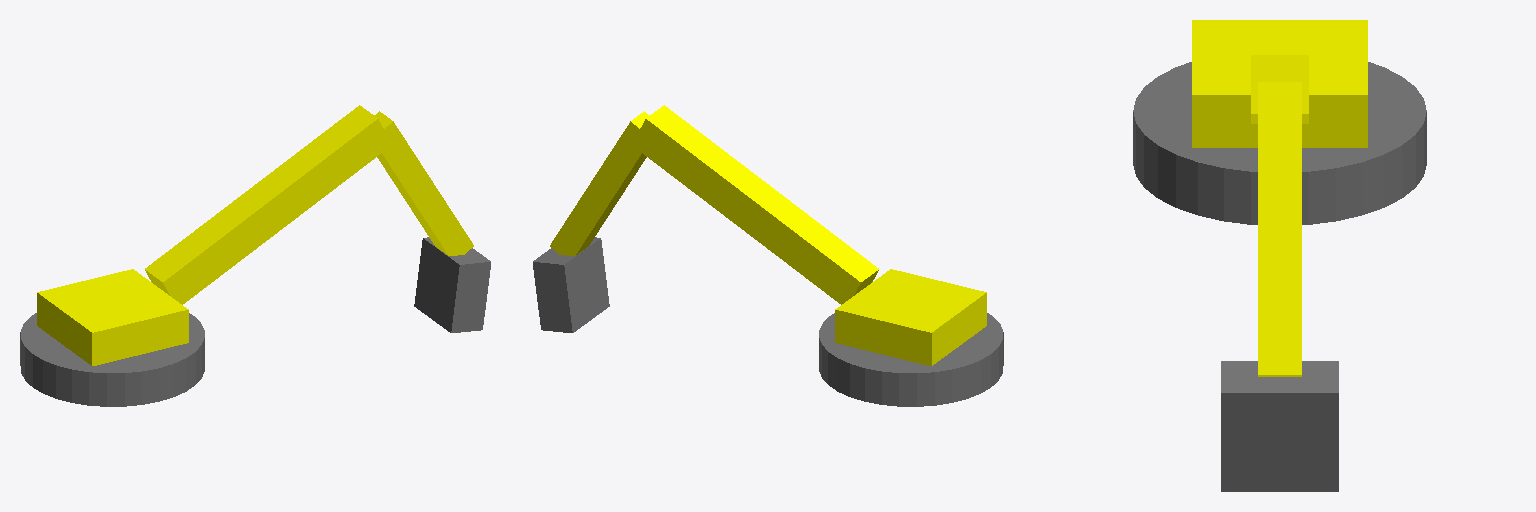
robot.urdf — excavator:
<?xml version="1.0"?>
<robot name="excavator">

  <!-- Materials -->
  <material name="grey">
    <color rgba="0.5 0.5 0.5 1"/>
  </material>
  <material name="yellow">
    <color rgba="1 1 0 1"/>
  </material>

  <!-- ===================================================================== -->
  <!--                                LINKS                                  -->
  <!-- ===================================================================== -->

  <!-- Base Link -->
  <link name="base_link">
    <visual>
      <geometry>
        <cylinder length="0.2" radius="0.5"/>
      </geometry>
      <material name="grey"/>
    </visual>
    <collision>
      <geometry>
        <cylinder length="0.2" radius="0.5"/>
      </geometry>
    </collision>
    <inertial>
      <mass value="10"/>
      <inertia ixx="0.1" ixy="0" ixz="0" iyy="0.1" iyz="0" izz="0.1"/>
    </inertial>
  </link>

  <!-- Turret Link -->
  <link name="turret_link">
    <visual>
      <geometry>
        <box size="0.6 0.6 0.4"/>
      </geometry>
      <material name="yellow"/>
    </visual>
    <collision>
      <geometry>
        <box size="0.6 0.6 0.4"/>
      </geometry>
    </collision>
    <inertial>
      <mass value="5"/>
      <inertia ixx="0.1" ixy="0" ixz="0" iyy="0.1" iyz="0" izz="0.1"/>
    </inertial>
  </link>

  <!-- Boom Link (Length = 1.5) -->
  <link name="boom_link">
    <visual>
      <!-- The origin is half the length of the boom -->
      <origin xyz="0.75 0 0" rpy="0 0 0"/>
      <geometry>
        <!-- The size of the boom box -->
        <box size="1.5 0.2 0.2"/>
      </geometry>
      <material name="yellow"/>
    </visual>
    <collision>
      <origin xyz="0.75 0 0" rpy="0 0 0"/>
      <geometry>
        <box size="1.5 0.2 0.2"/>
      </geometry>
    </collision>
    <inertial>
      <mass value="3"/>
      <origin xyz="0.75 0 0" rpy="0 0 0"/>
      <inertia ixx="0.01" ixy="0" ixz="0" iyy="0.1" iyz="0" izz="0.1"/>
    </inertial>
  </link>

  <!-- Stick Link (Length = 1.0) -->
  <link name="stick_link">
    <visual>
      <!-- The origin is half the length of the stick -->
      <origin xyz="0.5 0 0" rpy="0 0 0"/>
      <geometry>
        <!-- The size of the stick box -->
        <box size="1.0 0.15 0.15"/>
      </geometry>
      <material name="yellow"/>
    </visual>
    <collision>
      <origin xyz="0.5 0 0" rpy="0 0 0"/>
      <geometry>
        <box size="1.0 0.15 0.15"/>
      </geometry>
    </collision>
    <inertial>
      <mass value="2"/>
      <origin xyz="0.5 0 0" rpy="0 0 0"/>
      <inertia ixx="0.01" ixy="0" ixz="0" iyy="0.1" iyz="0" izz="0.1"/>
    </inertial>
  </link>

  <!-- Bucket Link -->
  <link name="bucket_link">
    <visual>
      <origin xyz="0.2 0 0" rpy="0 0 0"/>
      <geometry>
        <box size="0.4 0.4 0.2"/>
      </geometry>
      <material name="grey"/>
    </visual>
    <collision>
      <origin xyz="0.2 0 0" rpy="0 0 0"/>
      <geometry>
        <box size="0.4 0.4 0.2"/>
      </geometry>
    </collision>
    <inertial>
      <mass value="1"/>
      <origin xyz="0.2 0 0" rpy="0 0 0"/>
      <inertia ixx="0.01" ixy="0" ixz="0" iyy="0.01" iyz="0" izz="0.01"/>
    </inertial>
  </link>

  <!-- ===================================================================== -->
  <!--                                JOINTS                                 -->
  <!-- ===================================================================== -->

  <joint name="turret_joint" type="revolute">
    <parent link="base_link"/>
    <child link="turret_link"/>
    <origin xyz="0 0 0.1" rpy="0 0 0"/>
    <axis xyz="0 0 1"/>
    <limit lower="-3.15" upper="3.15" effort="1000" velocity="0.5"/>
  </joint>

  <joint name="boom_joint" type="revolute">
    <parent link="turret_link"/>
    <child link="boom_link"/>
    <origin xyz="0.3 0 0.2" rpy="0 -0.46 0"/>
    <axis xyz="0 -1 0"/>
    <limit lower="-0.587" upper="0.587" effort="1000" velocity="0.5"/>
  </joint>

  <joint name="stick_joint" type="revolute">
    <parent link="boom_link"/>
    <child link="stick_link"/>
    <!-- This origin must be at the full length of the boom -->
    <origin xyz="1.5 0 0" rpy="0 1.5 0"/>
    <axis xyz="0 -1 0"/>
    <limit lower="-1.2" upper="1.5" effort="1000" velocity="0.5"/>
  </joint>

  <joint name="bucket_joint" type="revolute">
    <parent link="stick_link"/>
    <child link="bucket_link"/>
    <!-- This origin must be at the full length of the stick -->
    <origin xyz="1.0 0 0" rpy="0 1.916 0"/>
    <axis xyz="0 -1 0"/>
    <limit lower="0.5" upper="2" effort="1000" velocity="0.5"/>
  </joint>

</robot>

--- What the picture shows (computed from the rendered views, not written in the file) ---
The picture shows the robot from 3 angles, left to right: view 1: azimuth 30°, elevation 25°; view 2: azimuth 150°, elevation 25°; view 3: azimuth 270°, elevation 25°; orthographic projection.
Robot: excavator — 5 links, 4 joints (4 revolute); root link base_link; default pose: joints at zero except 1 at the middle of their limits (bucket_joint = 1.25).
Links seen in each view (by area): view 1: boom_link, turret_link, base_link, bucket_link, stick_link; view 2: boom_link, turret_link, base_link, bucket_link, stick_link; view 3: base_link, turret_link, bucket_link, stick_link, boom_link.
Link boxes in pixels (<box>): boom_link: <box>145,105,391,304</box>; turret_link: <box>37,269,188,365</box>; base_link: <box>20,313,204,406</box>; bucket_link: <box>414,237,490,332</box>; stick_link: <box>374,111,473,255</box>; boom_link: <box>632,105,878,304</box>; turret_link: <box>835,269,986,365</box>; base_link: <box>819,313,1003,406</box>; bucket_link: <box>533,237,609,332</box>; stick_link: <box>550,111,649,255</box>; base_link: <box>1133,62,1426,224</box>; turret_link: <box>1192,20,1367,147</box>; bucket_link: <box>1221,361,1338,491</box>; stick_link: <box>1258,82,1301,376</box>; boom_link: <box>1251,55,1308,123</box>.
Size in the robot's own frame: 2.75 by 1 by 1.36 metres.
Geometry: primitives only (box / cylinder / sphere), no mesh files.